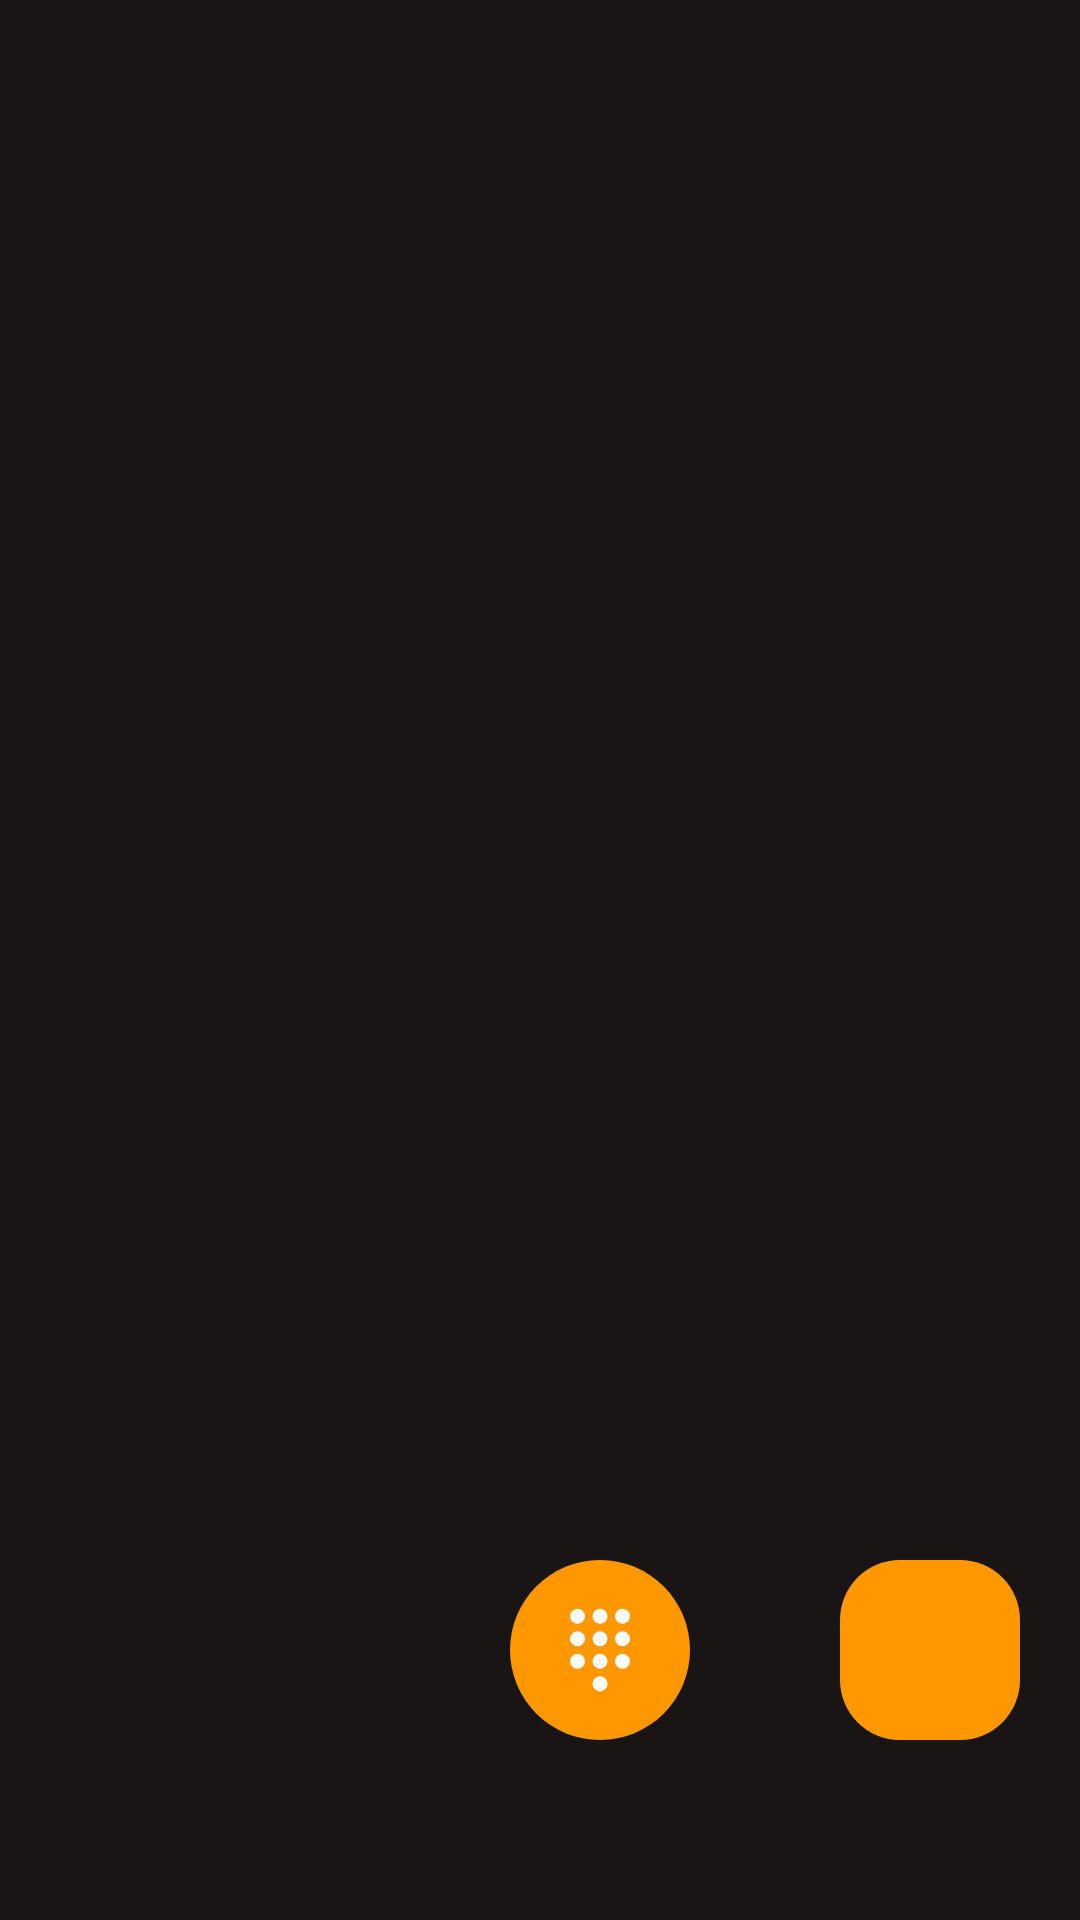

Screen size 1080x1920. Icon name, then its center in pixels as point (x, y):
dialpad eaed: point (600, 1650)
